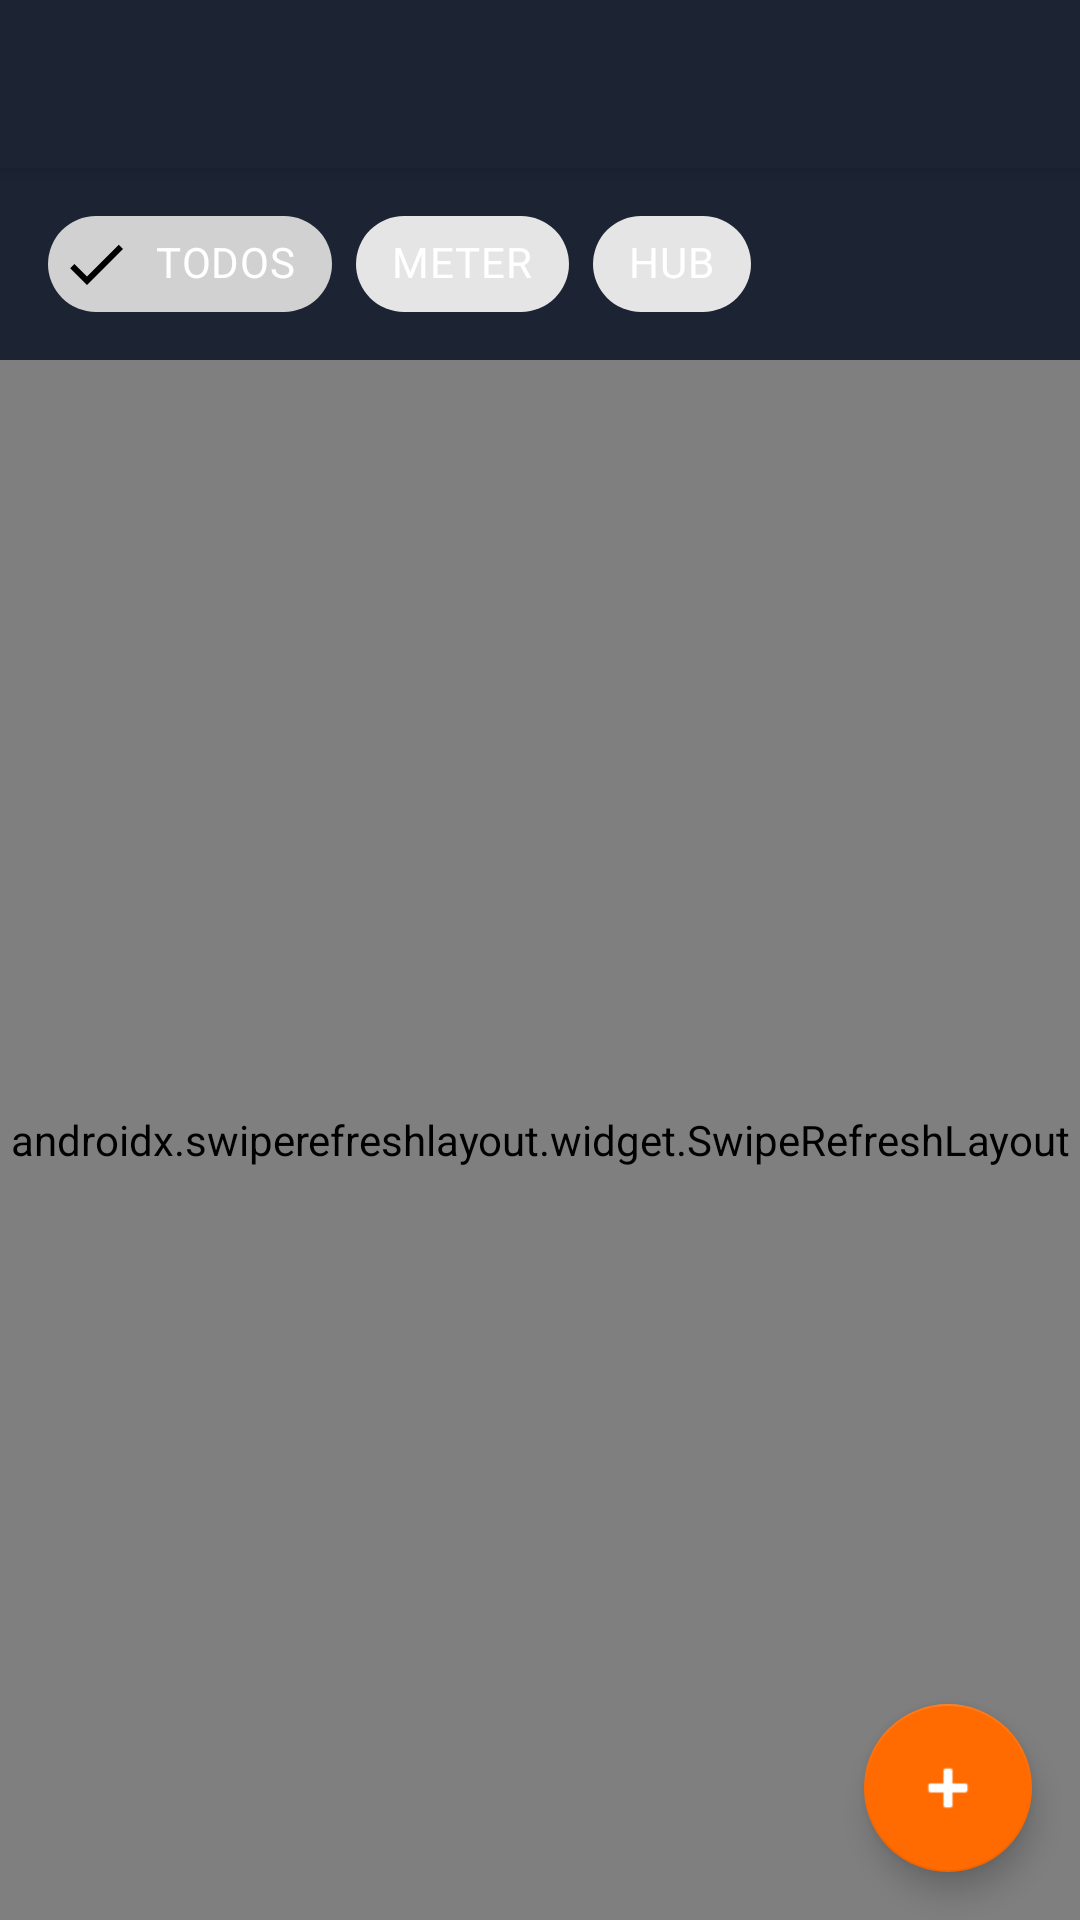

Screen size 1080×1920. Icon name, then its box in pixels as (x1, y1, x2, y2):
Registrar Serial: (864, 1704, 1032, 1872)
